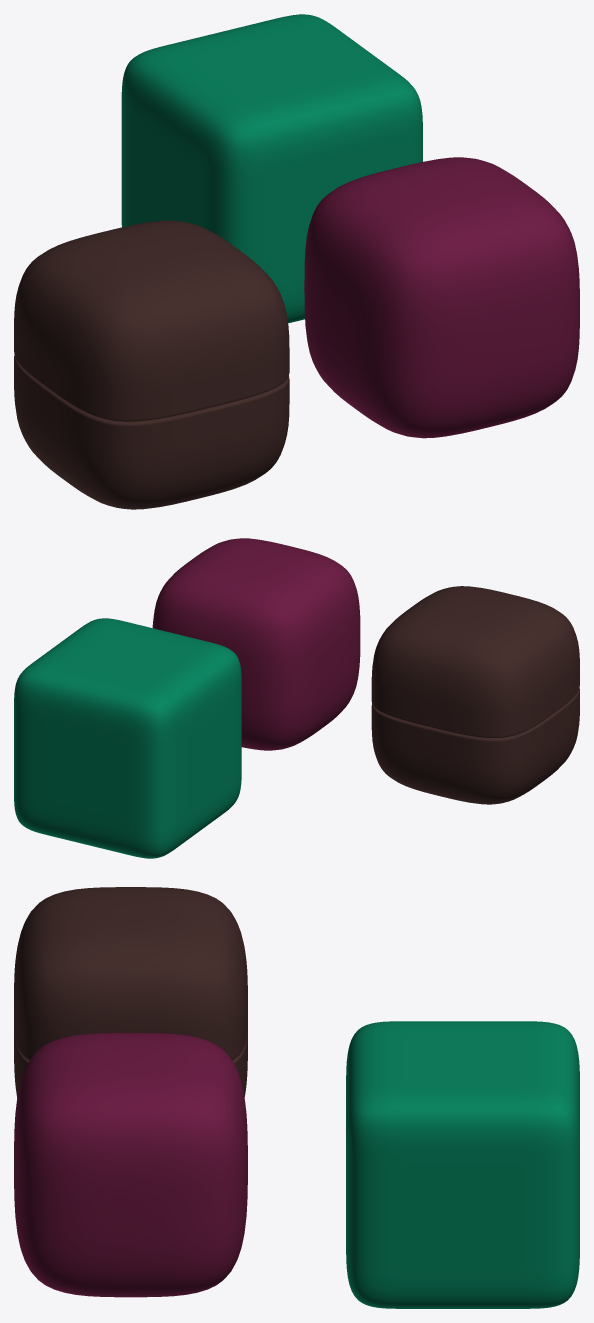
File: Untitled_std.gltf
3 views of the same model, one above another, from view 1: azimuth 30°, elevation 25°; view 2: azimuth 150°, elevation 25°; view 3: azimuth 270°, elevation 25° (orthographic). The views are drawn at different scales.
Visible parts, largest first — view 1: 2, 3, 1+, 1; view 2: 3, 2, 1+, 1; view 3: 3, 2, 1+, 1.
Part boxes in pixels (x1,y1,x2,y2): 2: (304, 157, 579, 438); 3: (121, 14, 422, 323); 1+: (14, 220, 289, 421); 1: (14, 355, 289, 509); 3: (14, 618, 241, 858); 2: (152, 538, 360, 750); 1+: (371, 586, 579, 737); 1: (371, 688, 579, 804); 3: (346, 1021, 579, 1308); 2: (14, 1033, 247, 1297); 1+: (14, 887, 247, 1060); 1: (14, 1027, 247, 1097).
Size of the model in its own units: 2.4 by 1.03 by 2.42.
